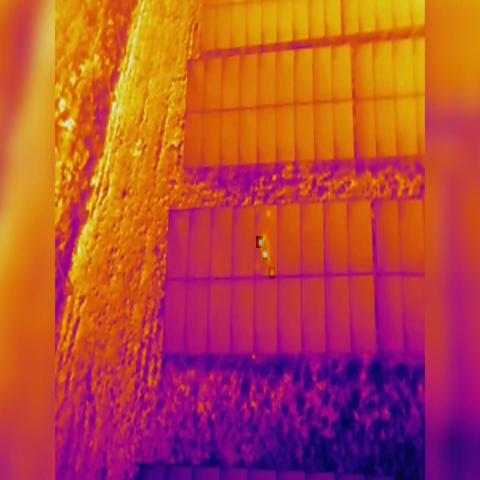fault: (256, 236, 263, 248), (269, 267, 275, 279), (263, 251, 268, 260)
